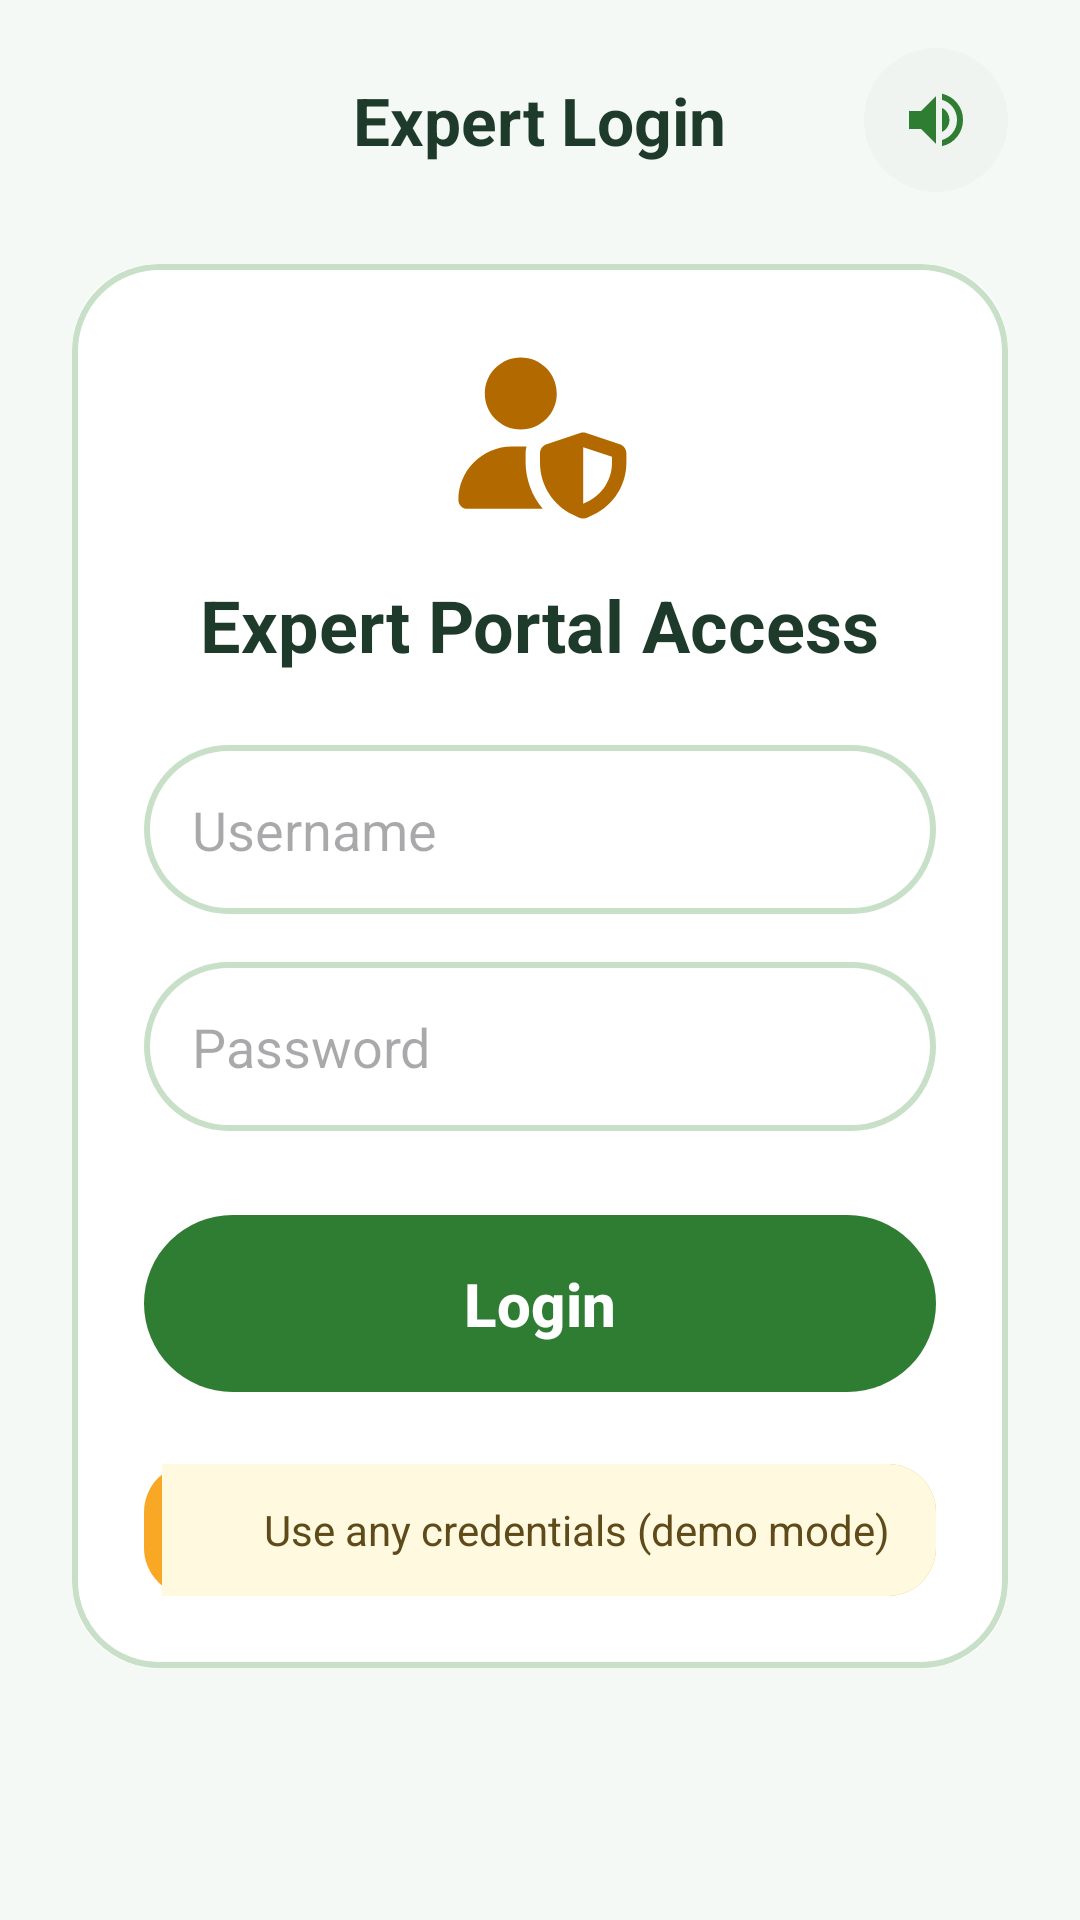

Icon click points for this 1080w x 1920h phone screenshot, format (x=x, y=y):
user shield: (x=542, y=438)
volume up: (x=936, y=119)
